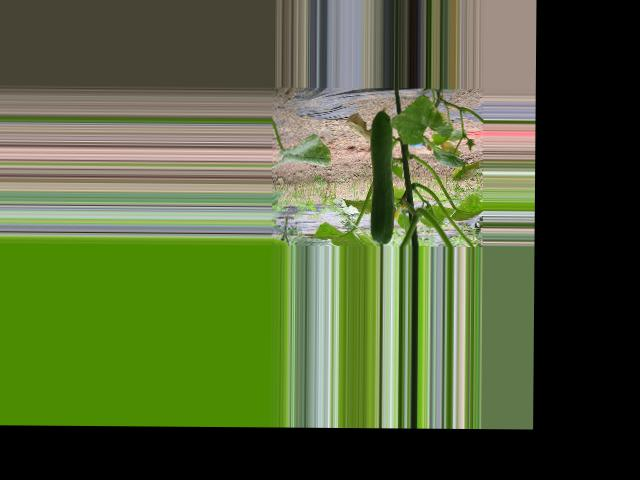cucumber: (369, 106, 394, 243)
